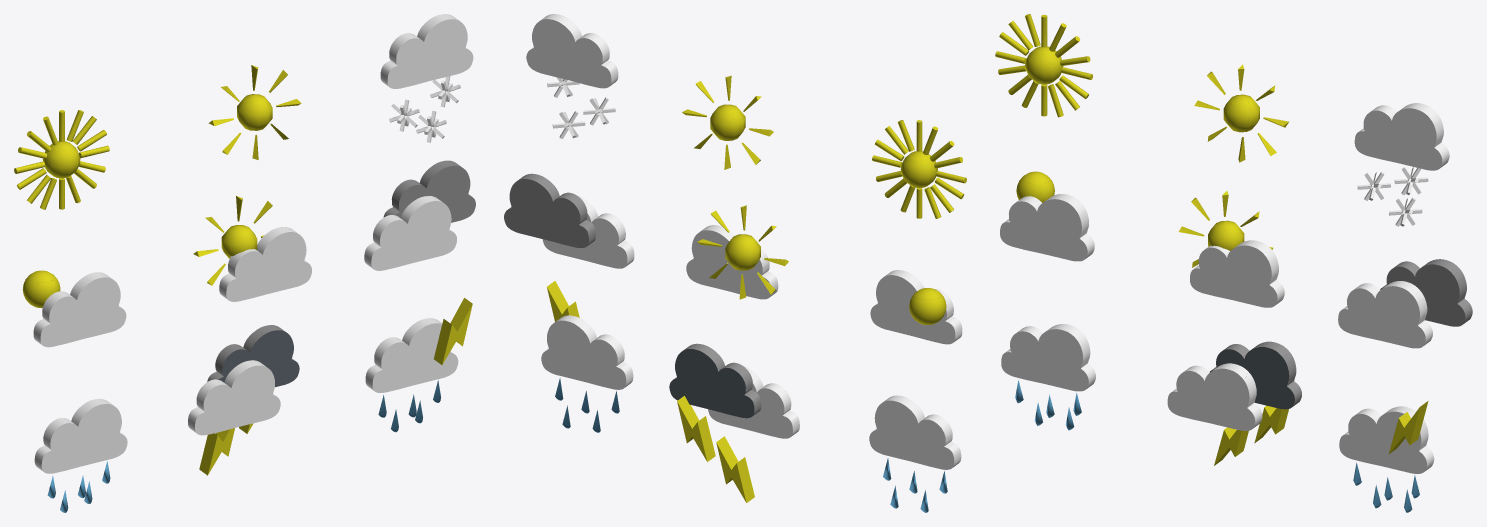
3 views of the same model, side by side, from view 1: azimuth 30°, elevation 25°; view 2: azimuth 150°, elevation 25°; view 3: azimuth 330°, elevation 25° (orthographic). The views are drawn at different scales.
Visible parts, largest first — view 1: lighting, cloudly, sun_cloud, snow, rain_lighting, rain, cloud, sun, sun_2, sun_3; view 2: lighting, cloudly, rain_lighting, snow, sun_cloud, rain, sun, cloud, sun_2, sun_3; view 3: lighting, cloudly, snow, sun_cloud, rain_lighting, rain, cloud, sun, sun_2, sun_3.
Part boxes in pixels (x1,y1,x2,y2): lighting: (188, 325, 299, 475); cloudly: (364, 160, 475, 270); sun_cloud: (193, 196, 311, 301); snow: (380, 14, 473, 142); rain_lighting: (365, 298, 472, 432); rain: (34, 398, 127, 512); cloud: (33, 272, 126, 347); sun: (14, 110, 109, 209); sun_2: (208, 65, 301, 159); sun_3: (22, 270, 60, 308); lighting: (669, 343, 799, 502); cloudly: (504, 173, 634, 268); rain_lighting: (541, 281, 633, 432); snow: (526, 14, 618, 138); sun_cloud: (686, 205, 788, 299); rain: (869, 395, 961, 512); sun: (872, 120, 966, 218); cloud: (870, 270, 962, 344); sun_2: (682, 75, 773, 169); sun_3: (909, 288, 946, 324); lighting: (1167, 341, 1301, 465); cloudly: (1338, 259, 1472, 348); snow: (1354, 103, 1449, 226); sun_cloud: (1178, 191, 1284, 307); rain_lighting: (1339, 401, 1434, 512); rain: (1001, 324, 1095, 430); cloud: (1000, 194, 1094, 261); sun: (995, 14, 1092, 117); sun_2: (1194, 64, 1288, 162); sun_3: (1016, 171, 1054, 202).
Bounding box in the file's own units: 122 × 106 × 18.6.
Materials: 10 (10 with a texture image).
